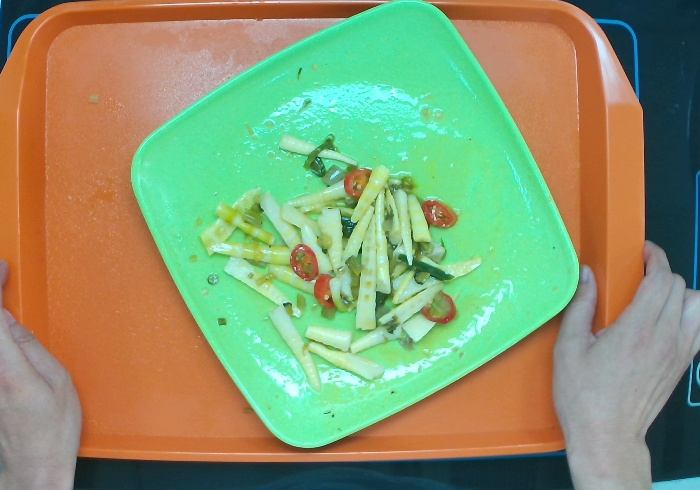ZNLD-Lv_Fang_Pan: (125, 1, 582, 452)
